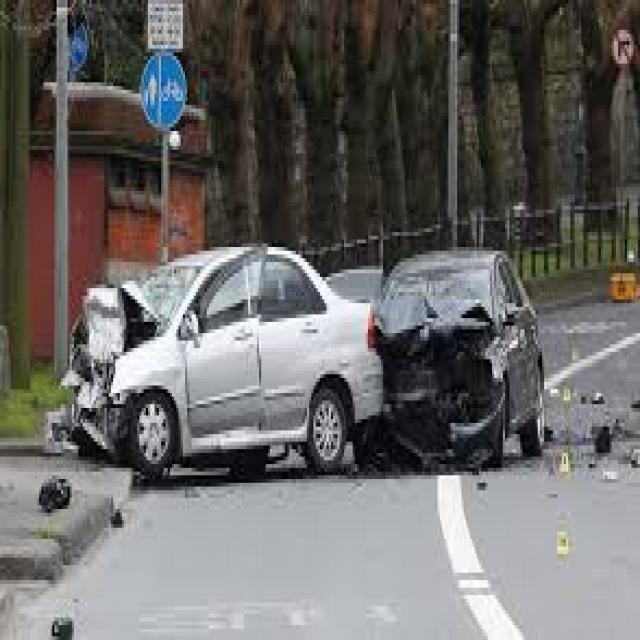accident: (23, 170, 543, 580)
